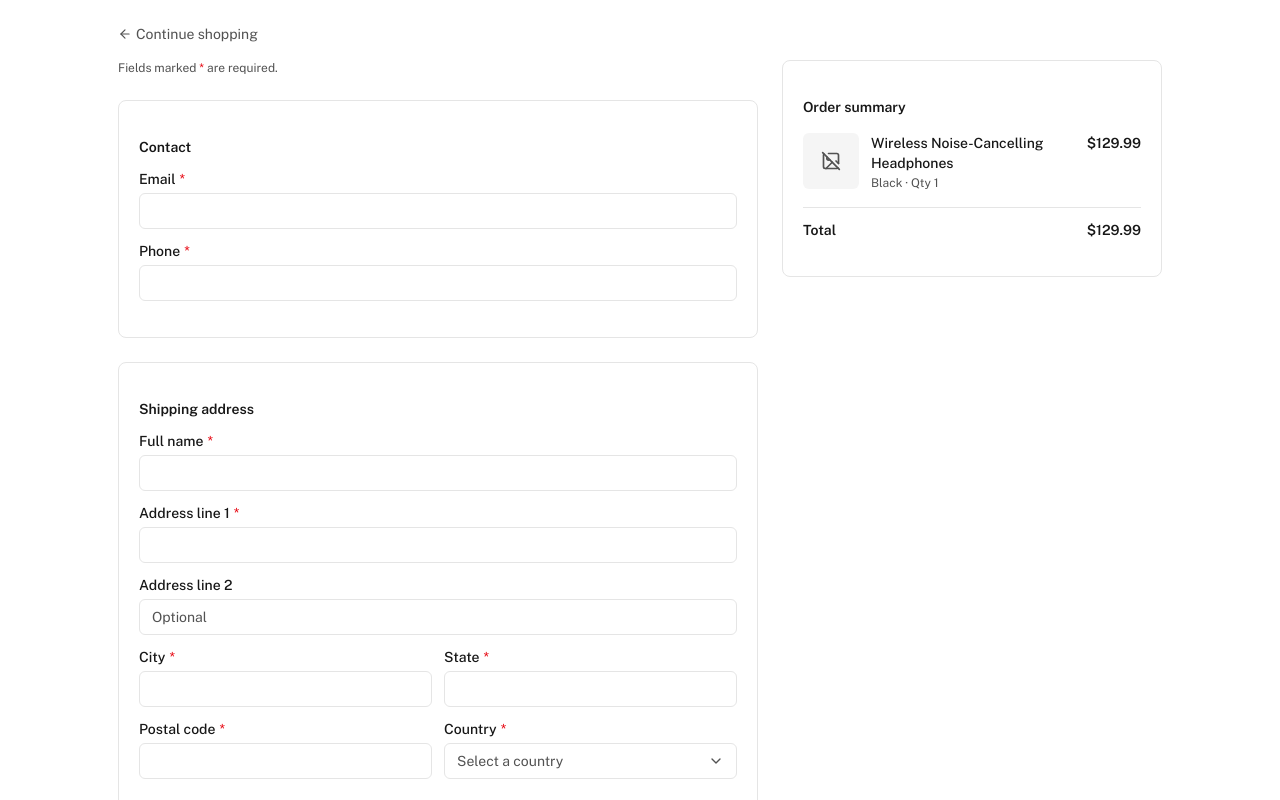
Scenario: delivery country › has no entry for UK, because the ISO code is GB
Click the dropdown labelled "country".
click(510, 761)  # box [444,743,737,779]
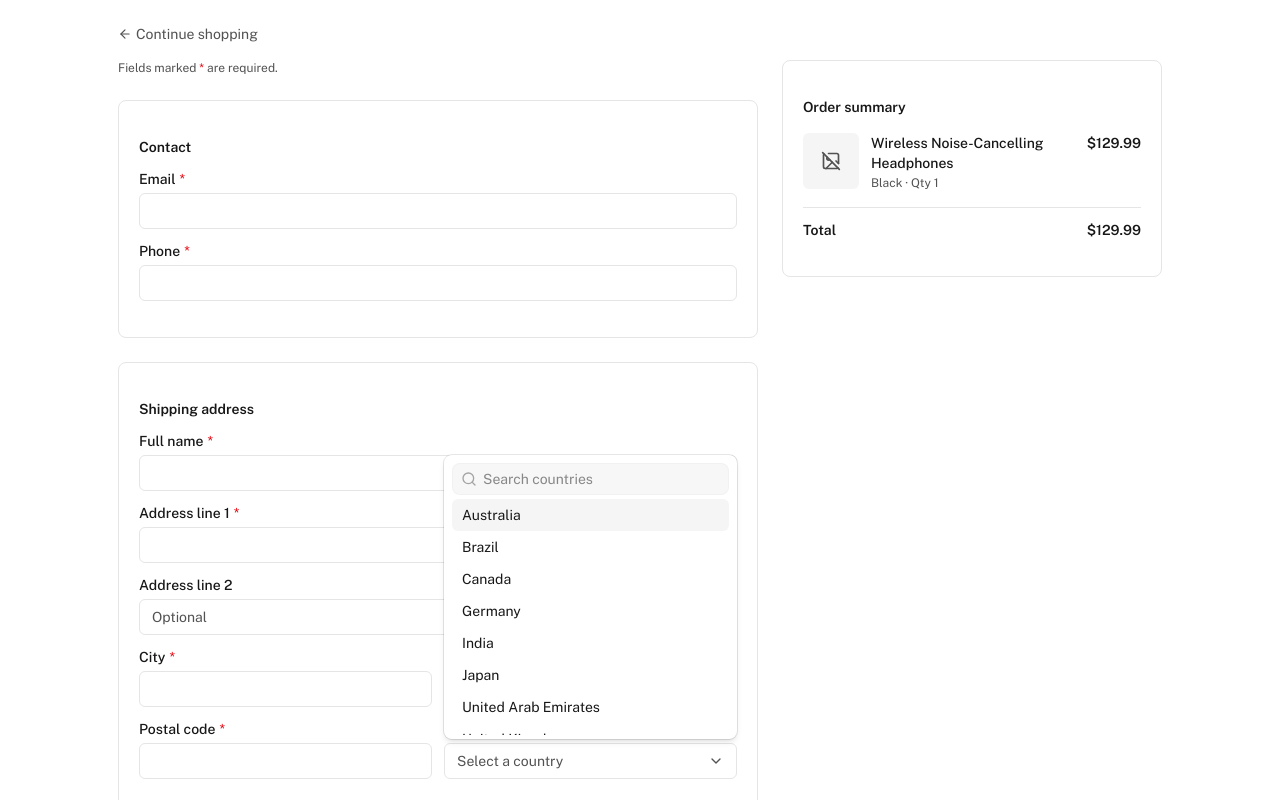
Type "UK" into the dropdown named "Search country".
click(602, 479); type("UK")  # box [477,469,728,489]
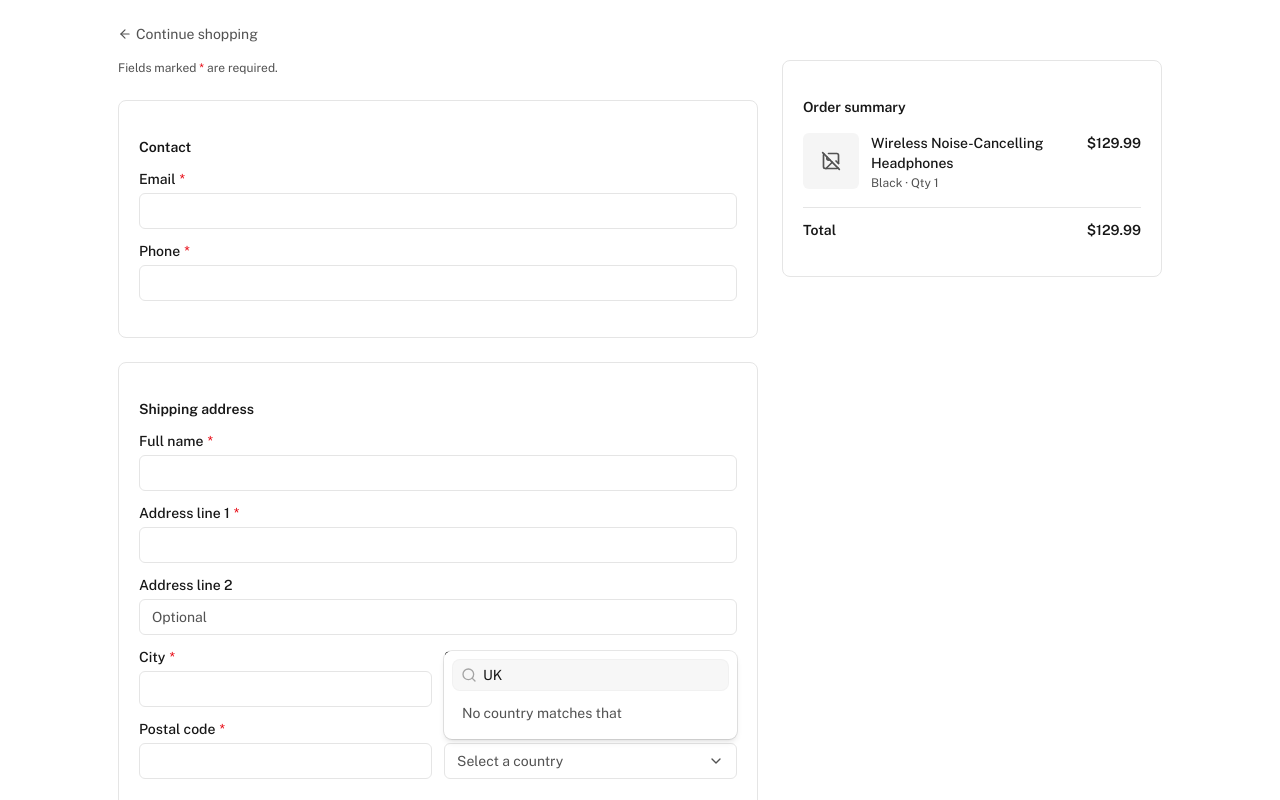
Result: the text "No country matches that" is shown at [462,705,622,721]
